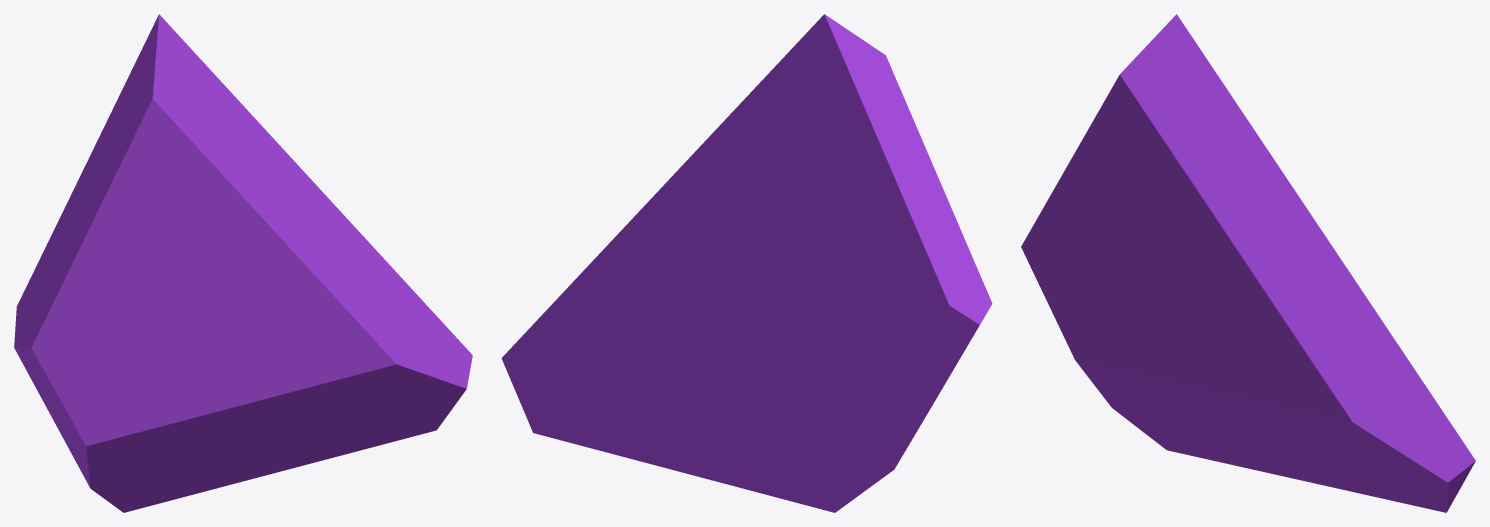
Rendered from Window_50_3_chunks.fbx.
3 views of the same model, side by side, from view 1: azimuth 30°, elevation 25°; view 2: azimuth 150°, elevation 25°; view 3: azimuth 330°, elevation 25° (orthographic). The views are drawn at different scales.
Visible parts, largest first — view 1: Window_50_3_0; view 2: Window_50_3_0; view 3: Window_50_3_0.
Boxes of the visible parts, x1,y1,x2,y2 form: Window_50_3_0: (14, 14, 472, 512); Window_50_3_0: (501, 14, 992, 512); Window_50_3_0: (1021, 14, 1475, 512).
Size of the model in its own units: 250 by 252 by 37.02.
